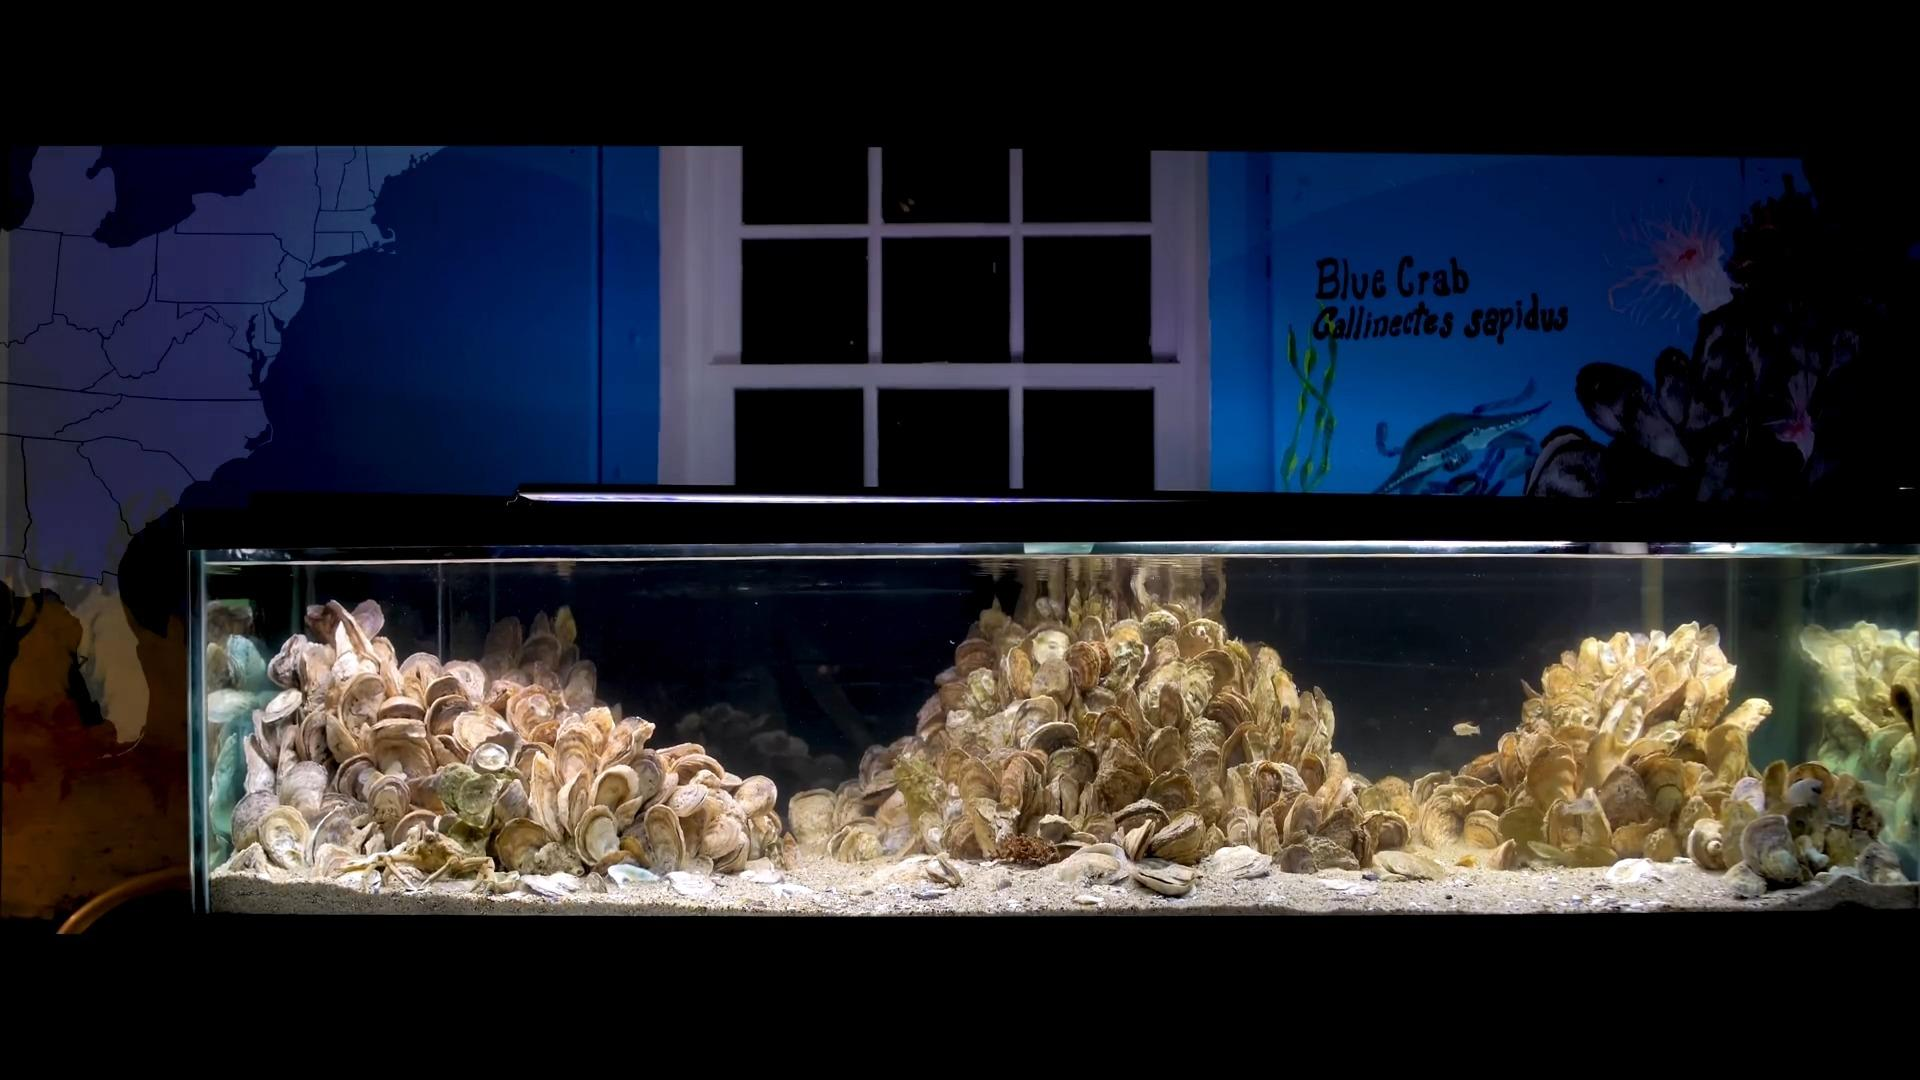Oyster: (1738, 814, 1804, 886), (1631, 754, 1700, 815), (368, 719, 434, 779), (1523, 744, 1582, 811), (330, 611, 384, 683), (397, 829, 473, 880), (255, 804, 313, 870), (1597, 765, 1655, 831), (1089, 760, 1150, 820), (1146, 810, 1212, 864), (1419, 791, 1473, 856), (309, 802, 367, 861), (277, 757, 332, 819), (229, 789, 284, 852), (506, 683, 560, 745), (641, 804, 690, 873), (1138, 659, 1191, 723), (493, 818, 553, 872), (336, 673, 388, 733), (696, 800, 745, 864), (448, 708, 505, 762), (787, 789, 839, 847), (997, 750, 1040, 818), (592, 762, 641, 822), (1027, 657, 1076, 715), (1192, 646, 1244, 698), (554, 711, 604, 764), (364, 769, 413, 823), (266, 634, 311, 692), (1110, 796, 1170, 840), (944, 810, 994, 861), (1296, 835, 1362, 873), (1257, 758, 1309, 806), (1146, 723, 1191, 778), (669, 750, 729, 791), (828, 822, 885, 865), (1145, 769, 1197, 815), (1046, 766, 1088, 823), (480, 615, 522, 671), (438, 659, 488, 707), (578, 806, 618, 864), (732, 773, 779, 822), (1067, 640, 1110, 692), (556, 771, 589, 840), (1784, 761, 1834, 806), (1130, 864, 1197, 897), (323, 712, 364, 766), (334, 752, 378, 800), (390, 808, 443, 849), (1364, 811, 1410, 856), (1027, 628, 1072, 674), (857, 740, 898, 790), (560, 659, 597, 715), (241, 731, 274, 793), (224, 841, 277, 880), (260, 684, 305, 729), (373, 694, 426, 731), (964, 666, 1001, 717), (665, 781, 711, 820), (1222, 807, 1259, 856), (1025, 721, 1079, 754), (1138, 607, 1183, 646), (1122, 818, 1160, 864), (1005, 645, 1035, 703), (493, 779, 530, 825), (349, 597, 385, 642), (385, 861, 427, 895), (878, 820, 915, 857), (1033, 814, 1076, 844), (615, 833, 650, 870), (1278, 841, 1316, 876), (204, 641, 232, 687), (1486, 837, 1519, 872), (555, 604, 578, 647), (1063, 832, 1106, 851)
